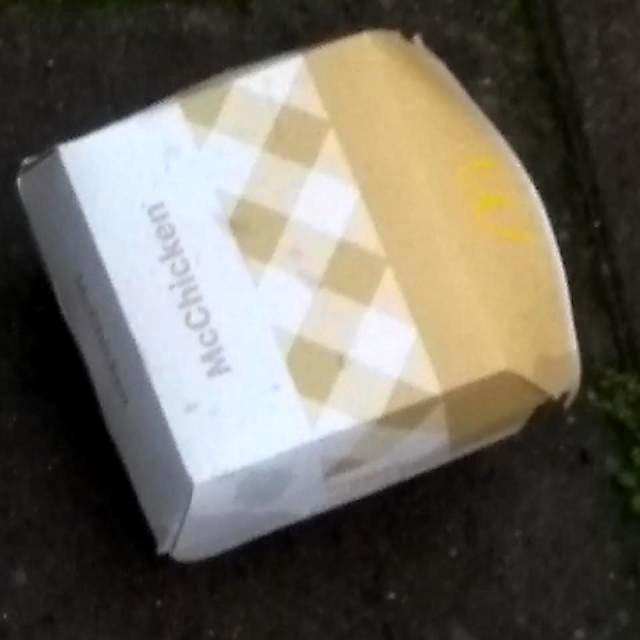Paper: (14, 18, 588, 572)
